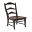chair: (2, 1, 29, 31)
